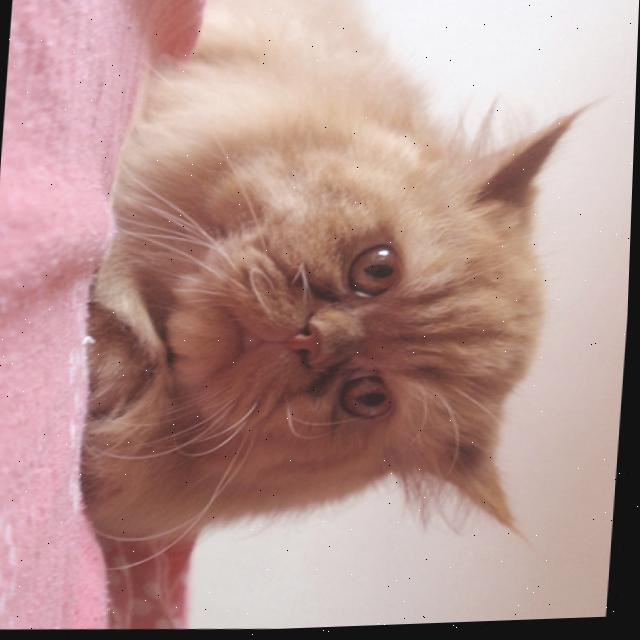Persian: (64, 0, 608, 567)
